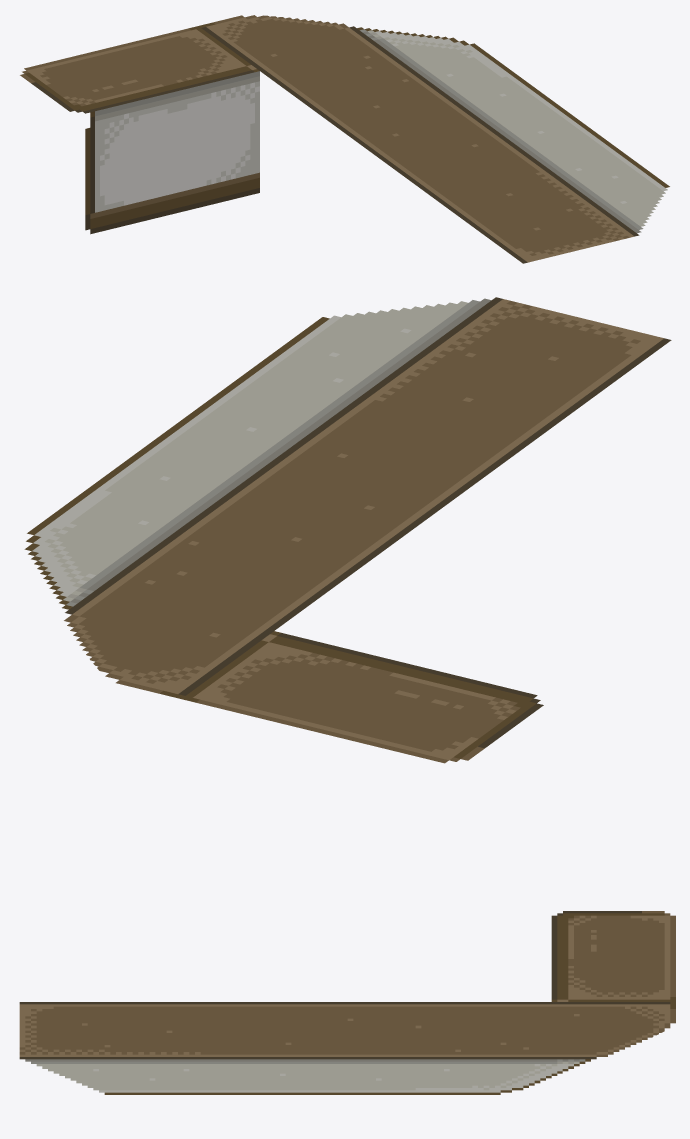
File: counter.gltf
The picture shows the model from 3 angles, top to bottom: view 1: azimuth 30°, elevation 25°; view 2: azimuth 150°, elevation 25°; view 3: azimuth 270°, elevation 25°; orthographic projection. The views are drawn at different scales.
Visible parts, largest first — view 1: counter-col; view 2: counter-col; view 3: counter-col.
Boxes of the visible parts, x1,y1,x2,y2 form: counter-col: (20, 15, 669, 263); counter-col: (24, 297, 671, 763); counter-col: (19, 911, 675, 1094).
Size of the model in its own units: 4.81 by 1.5 by 7.31.
1 material, 1 textured.
